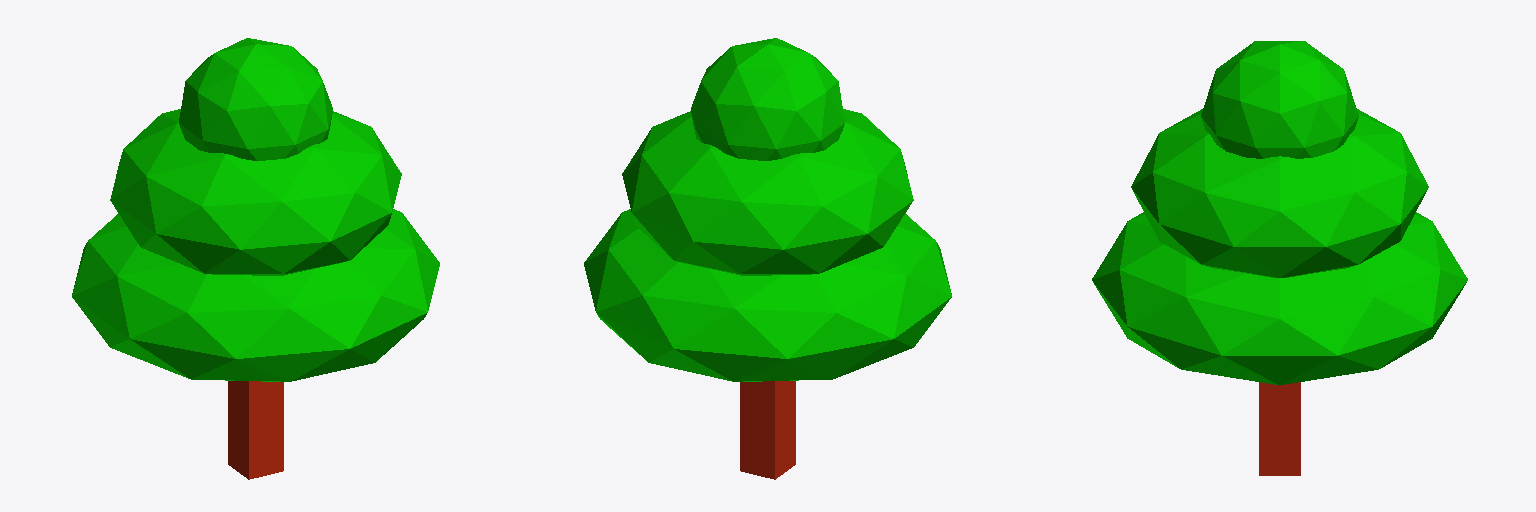
File: treeTwo.obj
3 views of the same model, side by side, from view 1: azimuth 30°, elevation 25°; view 2: azimuth 150°, elevation 25°; view 3: azimuth 270°, elevation 25° (orthographic).
Visible parts, largest first — view 1: Icosphere.002, Icosphere.001, Icosphere, Cube; view 2: Icosphere.002, Icosphere.001, Icosphere, Cube; view 3: Icosphere.002, Icosphere.001, Icosphere, Cube.
Part boxes in pixels (left/top/right/bottom): Icosphere.002: left=72, top=209, right=439, bottom=381; Icosphere.001: left=110, top=109, right=401, bottom=275; Icosphere: left=179, top=38, right=332, bottom=160; Cube: left=228, top=381, right=283, bottom=479; Icosphere.002: left=584, top=209, right=951, bottom=381; Icosphere.001: left=622, top=109, right=913, bottom=275; Icosphere: left=691, top=38, right=844, bottom=160; Cube: left=740, top=381, right=795, bottom=479; Icosphere.002: left=1092, top=212, right=1467, bottom=384; Icosphere.001: left=1131, top=109, right=1428, bottom=277; Icosphere: left=1201, top=41, right=1358, bottom=158; Cube: left=1259, top=382, right=1300, bottom=475.
Size of the model in its own units: 4.53 by 5.91 by 4.76.